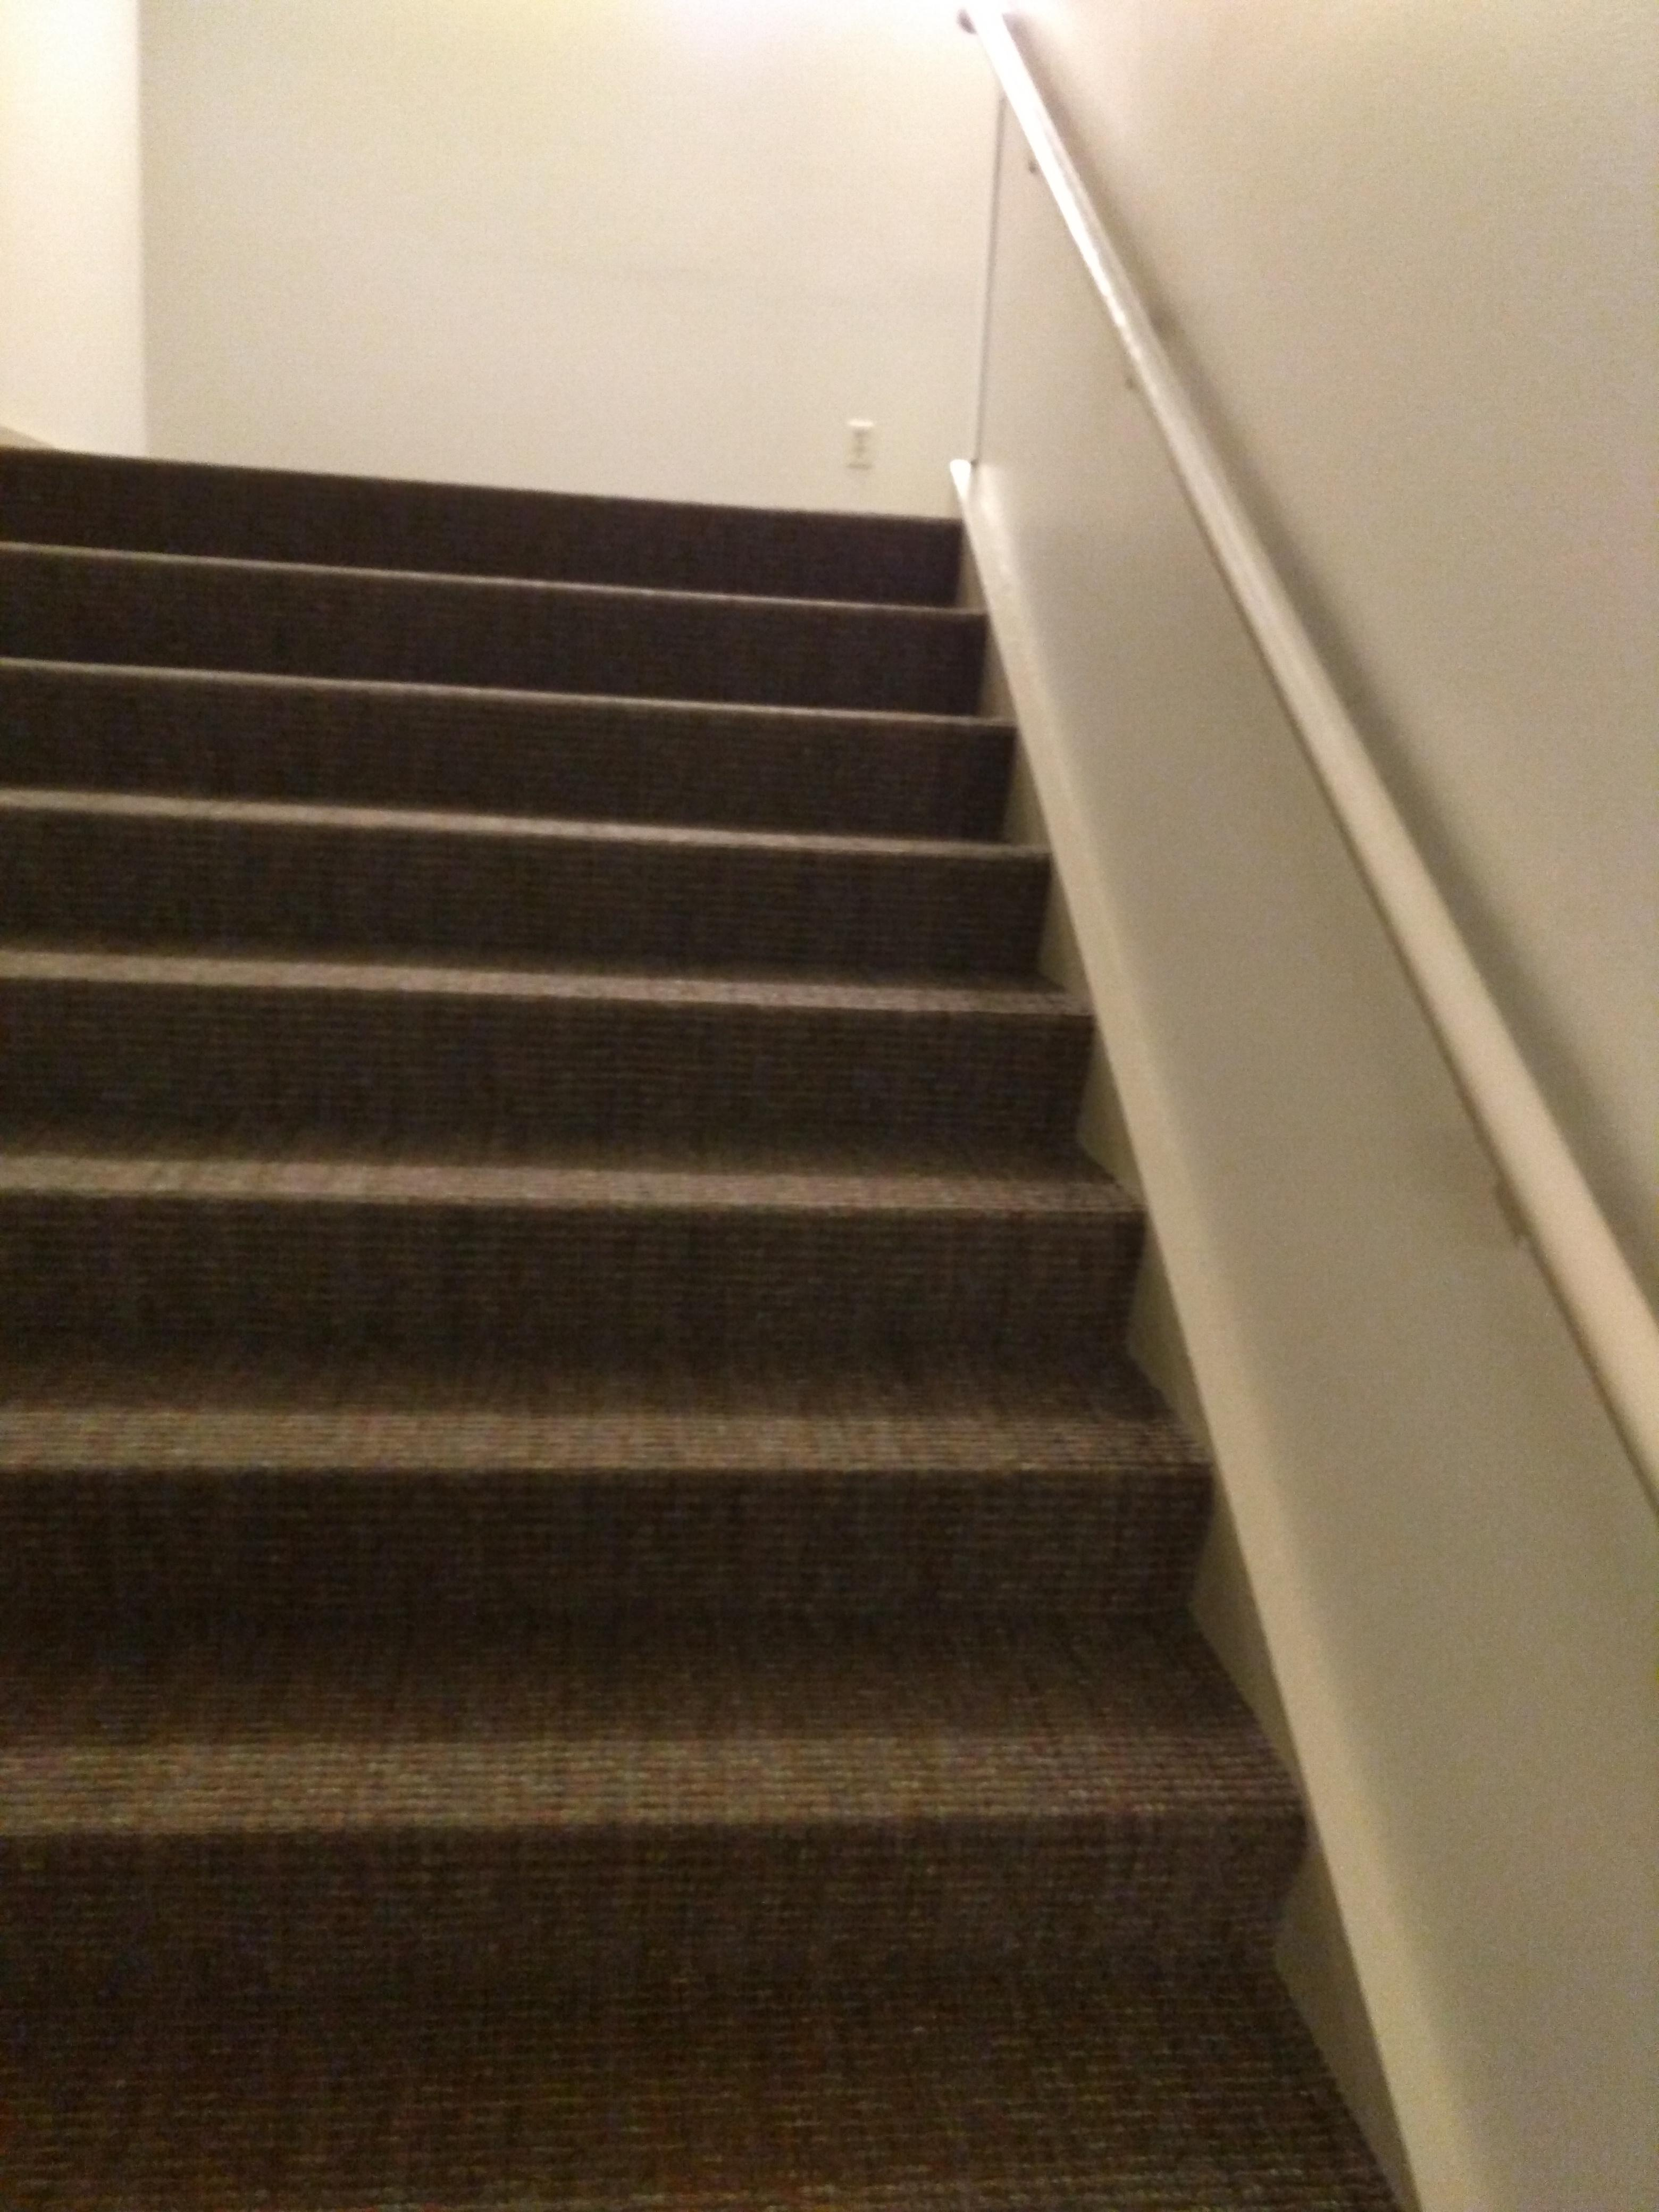stairs_up: (0, 418, 1305, 1965)
